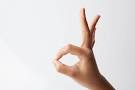Hand: (48, 9, 112, 85)
